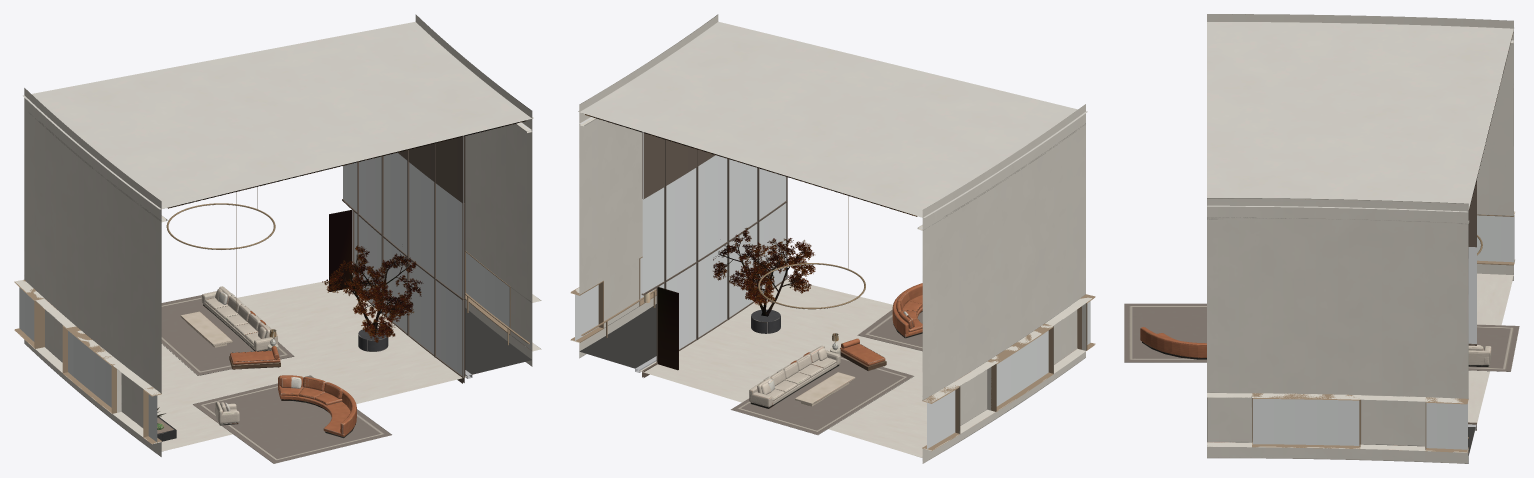
3 views of the same model, side by side, from view 1: azimuth 30°, elevation 25°; view 2: azimuth 150°, elevation 25°; view 3: azimuth 270°, elevation 25° (orthographic). The views are drawn at different scales.
Visible parts, largest first — view 1: c2700, c2700 leaves; view 2: c2700, c2700 leaves; view 3: c2700.
Part boxes in pixels (x1,y1,x2,y2): c2700: (14, 14, 541, 463); c2700 leaves: (157, 120, 526, 423); c2700: (570, 14, 1095, 463); c2700 leaves: (585, 114, 917, 370); c2700: (1124, 14, 1519, 463).
Size of the model in its own units: 21.67 by 13.2 by 18.17.
11 materials, 1 textured.
